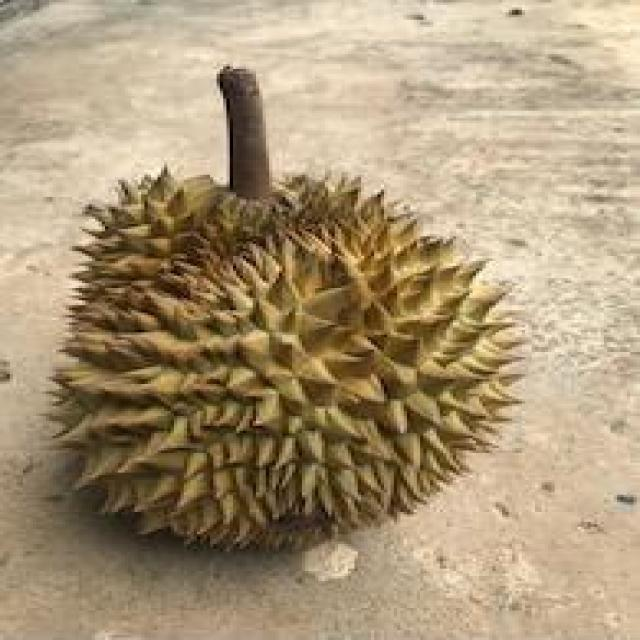mature: (55, 170, 523, 549)
